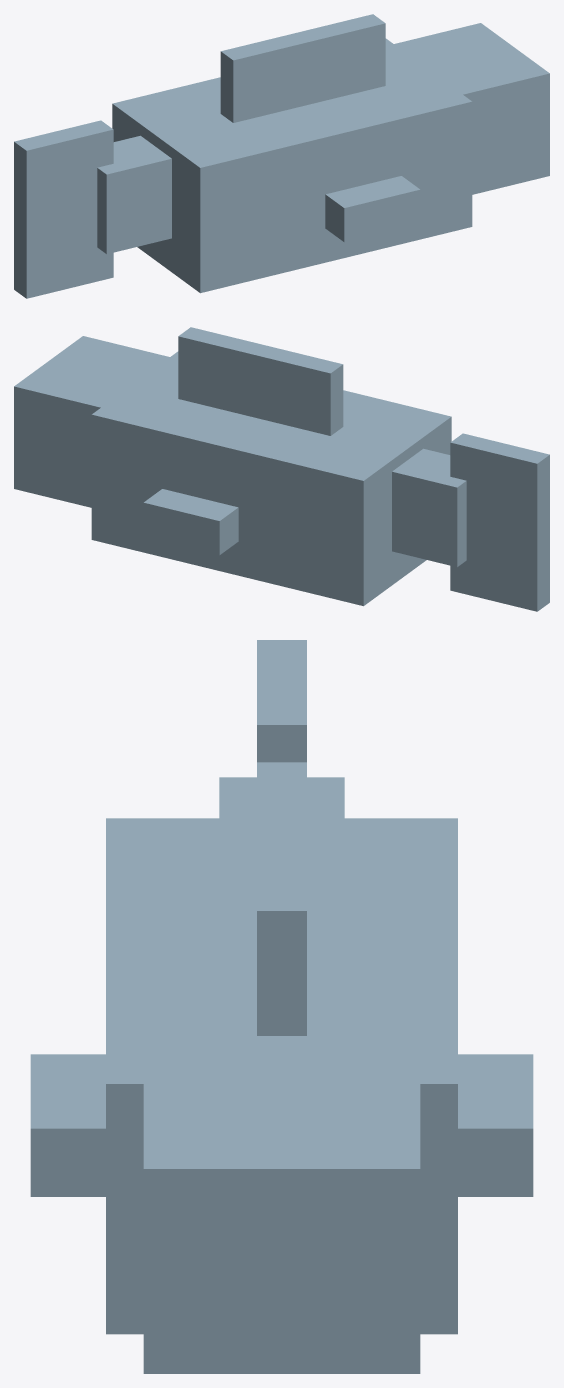
The model's file is fish_polar_herring.glb.
The picture shows the model from 3 angles, top to bottom: view 1: azimuth 30°, elevation 25°; view 2: azimuth 150°, elevation 25°; view 3: azimuth 270°, elevation 25°; orthographic projection. The views are drawn at different scales.
Parts seen in each view (by area): view 1: species.polar_herring; view 2: species.polar_herring; view 3: species.polar_herring.
Part boxes in pixels (<box>): species.polar_herring: <box>14,14,549,298</box>; species.polar_herring: <box>14,327,549,611</box>; species.polar_herring: <box>30,640,533,1373</box>.
Bounding box in the file's own units: 0.3 × 0.1088 × 0.1319.
